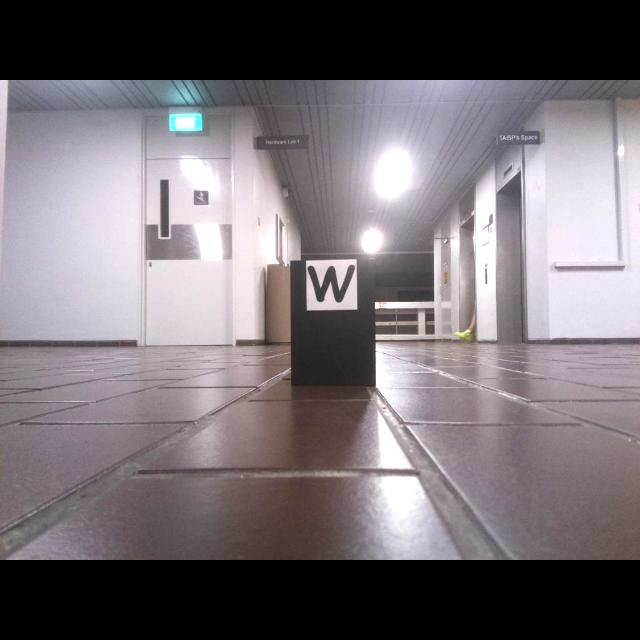W: (307, 263, 357, 305)
